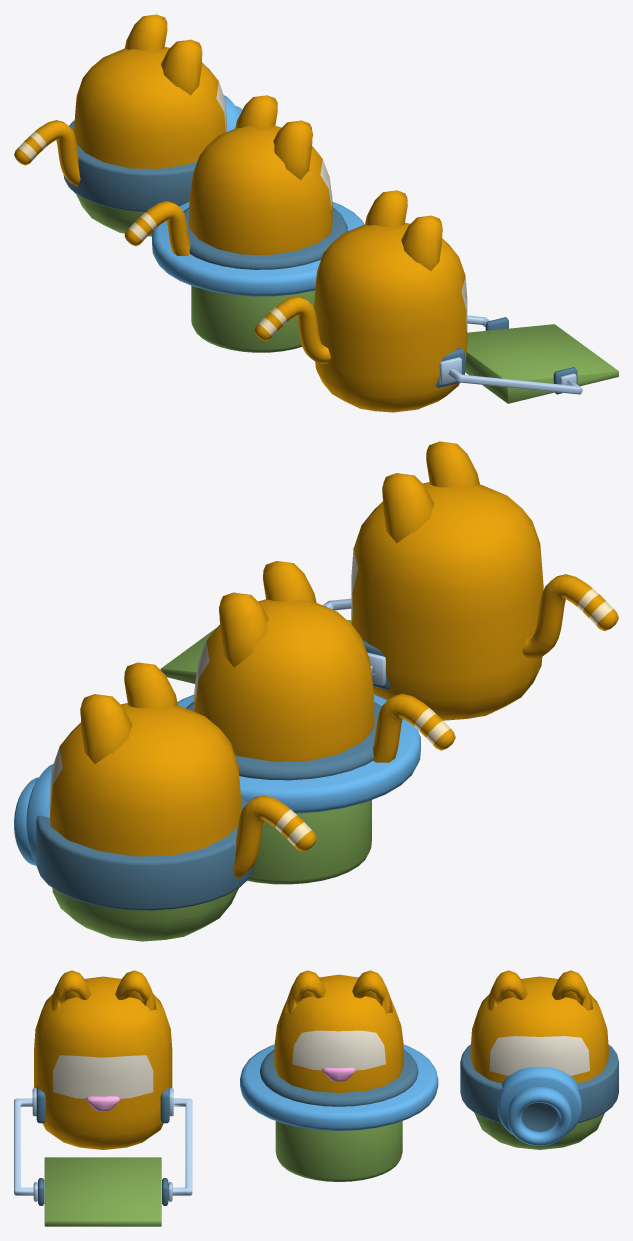
Rendered from enemies.fbx.
The picture shows the model from 3 angles, top to bottom: view 1: azimuth 30°, elevation 25°; view 2: azimuth 150°, elevation 25°; view 3: azimuth 270°, elevation 25°; orthographic projection. The views are drawn at different scales.
Visible parts, largest first — view 1: body_3, body_2, body_1, scraper, hoop_2, bodice, band, ears_2, ears_3, hoop_3, ears_1, tail_3 (+2 smaller); view 2: body_3, body_2, body_1, band, bodice, hoop_2, ears_3, ears_2, ears_1, tail_3, tail_2, hoop_3 (+4 smaller); view 3: body_3, body_2, scraper, body_1, hoop_2, bodice, band, shooter, hoop_3, shooter_holder, ears_2, ears_3 (+3 smaller).
Part boxes in pixels (bbox=[...]): body_3: bbox=[314, 222, 467, 412]; body_2: bbox=[74, 47, 226, 236]; body_1: bbox=[189, 126, 332, 254]; scraper: bbox=[435, 315, 618, 403]; hoop_2: bbox=[152, 201, 364, 296]; bodice: bbox=[191, 285, 315, 352]; band: bbox=[63, 120, 197, 211]; ears_2: bbox=[124, 14, 202, 95]; ears_3: bbox=[365, 190, 442, 270]; hoop_3: bbox=[183, 207, 347, 269]; ears_1: bbox=[235, 95, 312, 179]; tail_3: bbox=[254, 296, 330, 363]; body_3: bbox=[351, 482, 543, 720]; body_2: bbox=[49, 703, 241, 941]; body_1: bbox=[194, 599, 374, 761]; band: bbox=[36, 795, 254, 910]; bodice: bbox=[247, 800, 371, 884]; hoop_2: bbox=[177, 694, 420, 813]; ears_3: bbox=[382, 441, 479, 542]; ears_2: bbox=[80, 662, 177, 763]; ears_1: bbox=[219, 561, 316, 667]; tail_3: bbox=[522, 574, 618, 659]; tail_2: bbox=[233, 795, 316, 878]; hoop_3: bbox=[186, 701, 381, 780]; body_3: bbox=[34, 976, 172, 1149]; body_2: bbox=[470, 976, 608, 1149]; scraper: bbox=[14, 1087, 192, 1226]; body_1: bbox=[274, 974, 403, 1092]; hoop_2: bbox=[240, 1044, 438, 1130]; bodice: bbox=[275, 1121, 402, 1181]; band: bbox=[460, 1044, 618, 1122]; shooter: bbox=[507, 1087, 571, 1145]; hoop_3: bbox=[260, 1049, 418, 1106]; shooter_holder: bbox=[497, 1067, 581, 1135]; ears_2: bbox=[486, 970, 592, 1010]; ears_3: bbox=[49, 970, 156, 1010].
Bounding box in the file's own units: 588 × 361 × 1026.
